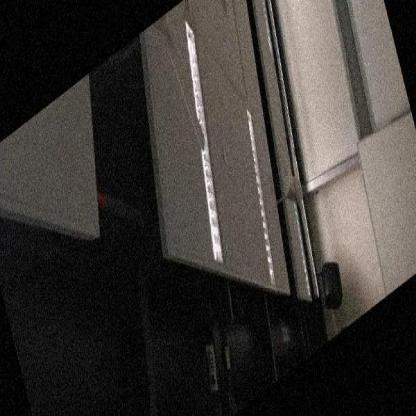light_on: (154, 7, 249, 265), (223, 93, 297, 306), (284, 194, 321, 304)
